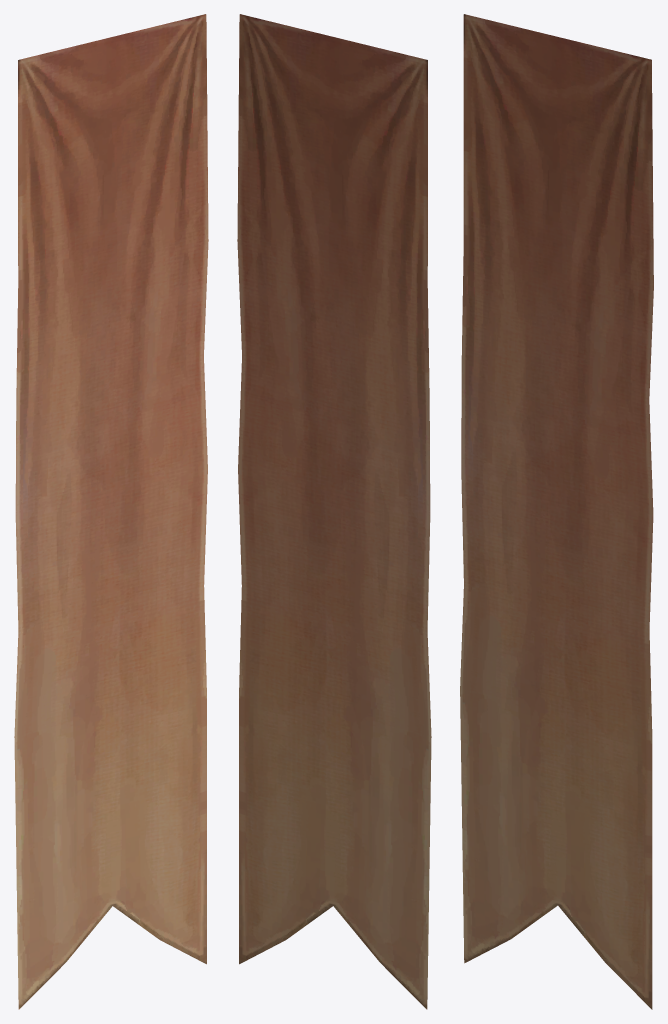
File: Homeworld_Interior_Xm_Walldecoration_Prop_Curtains_01_Vo.fbx
The picture shows the model from 3 angles, left to right: view 1: azimuth 30°, elevation 25°; view 2: azimuth 150°, elevation 25°; view 3: azimuth 330°, elevation 25°; orthographic projection.
Visible parts, largest first — view 1: Indoor_Xm_Prop_Czj_Decoration_05_Vo; view 2: Indoor_Xm_Prop_Czj_Decoration_05_Vo; view 3: Indoor_Xm_Prop_Czj_Decoration_05_Vo.
Boxes of the visible parts, x1=… form: Indoor_Xm_Prop_Czj_Decoration_05_Vo: x1=14, y1=14, x2=208, y2=1009; Indoor_Xm_Prop_Czj_Decoration_05_Vo: x1=237, y1=14, x2=431, y2=1009; Indoor_Xm_Prop_Czj_Decoration_05_Vo: x1=460, y1=14, x2=653, y2=1009.
Size of the model in its own units: 0.7065 by 3.31 by 0.00176.
